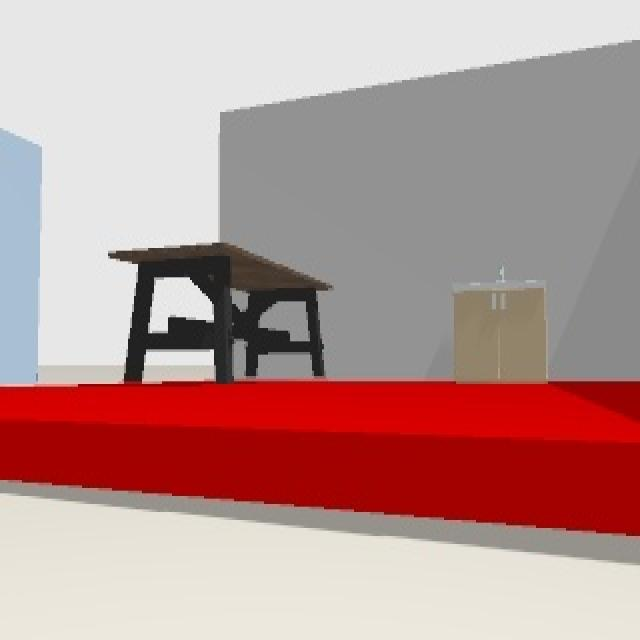dining: (110, 242, 333, 378)
